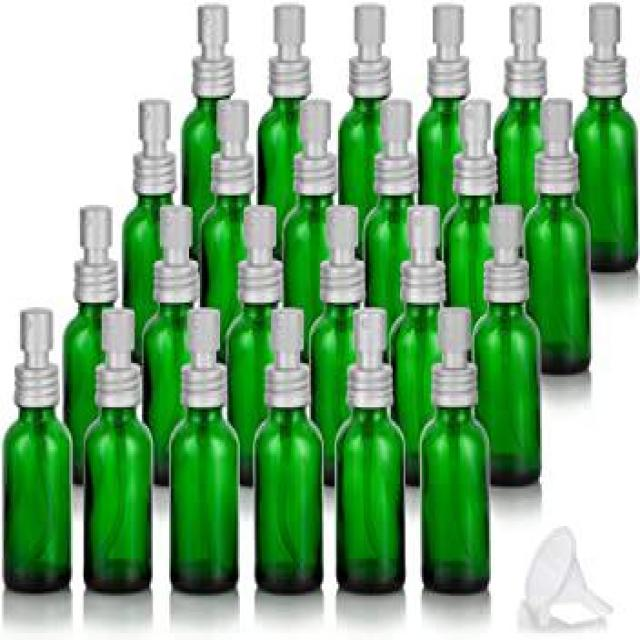non-organic waste: (245, 305, 331, 600)
